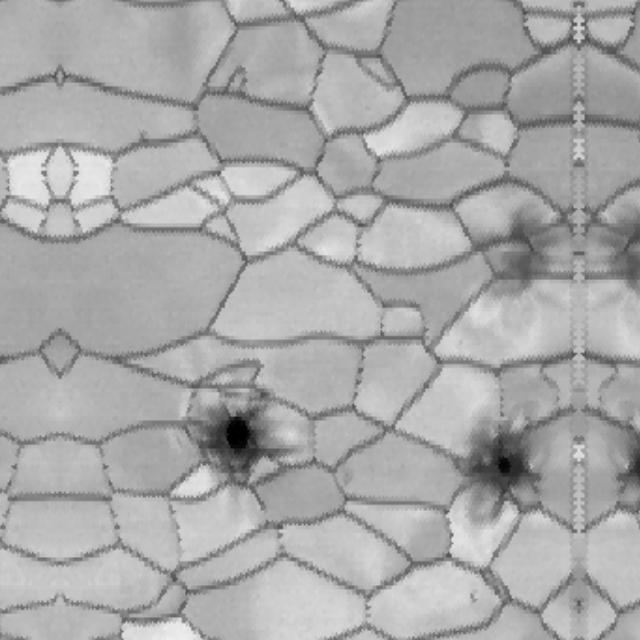good_void: (472, 193, 566, 331), (185, 390, 299, 489), (460, 420, 545, 537), (594, 193, 640, 324), (615, 425, 640, 527), (464, 585, 481, 614), (187, 390, 205, 402), (133, 130, 148, 142)
